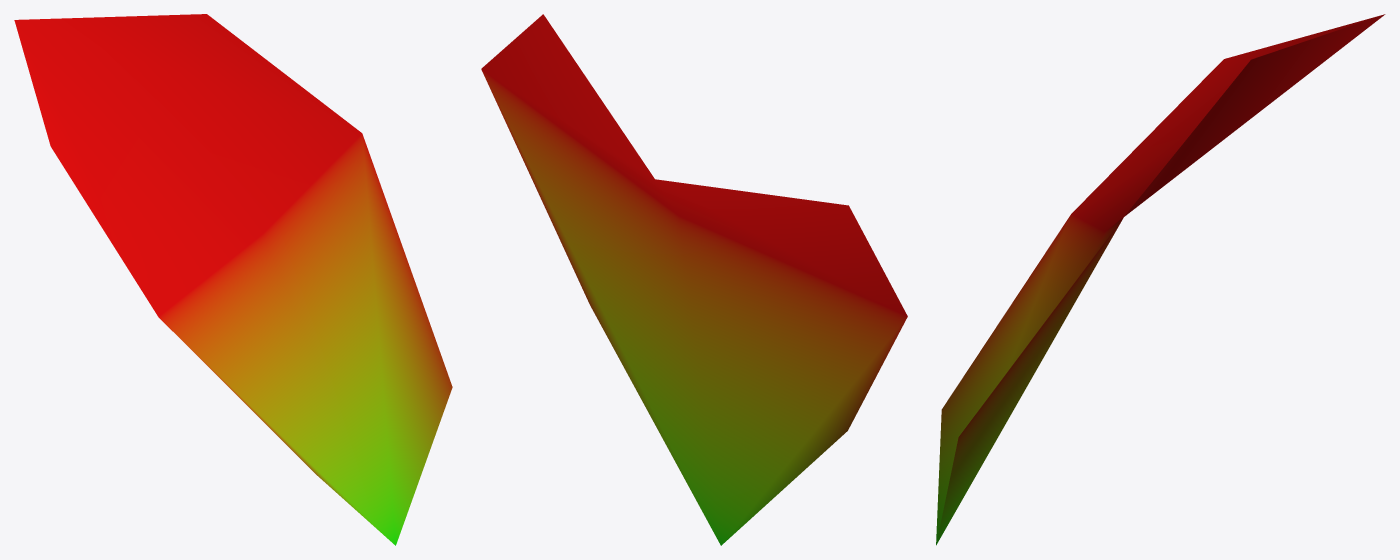
The model's file is Silvery Glade Fern_LOD6_Var3_xf5lebcqx.fbx.
3 renders of one model, left to right at view 1: azimuth 30°, elevation 25°; view 2: azimuth 150°, elevation 25°; view 3: azimuth 270°, elevation 25°, orthographic. The views are drawn at different scales.
Parts seen in each view (by area): view 1: _zw9l_Var3_LOD6; view 2: _zw9l_Var3_LOD6; view 3: _zw9l_Var3_LOD6.
Part boxes in pixels (x1,y1,x2,y2): _zw9l_Var3_LOD6: [14, 14, 452, 545]; _zw9l_Var3_LOD6: [481, 14, 907, 545]; _zw9l_Var3_LOD6: [936, 14, 1385, 545].
Size of the model in its own units: 18.88 by 28.19 by 24.74.
